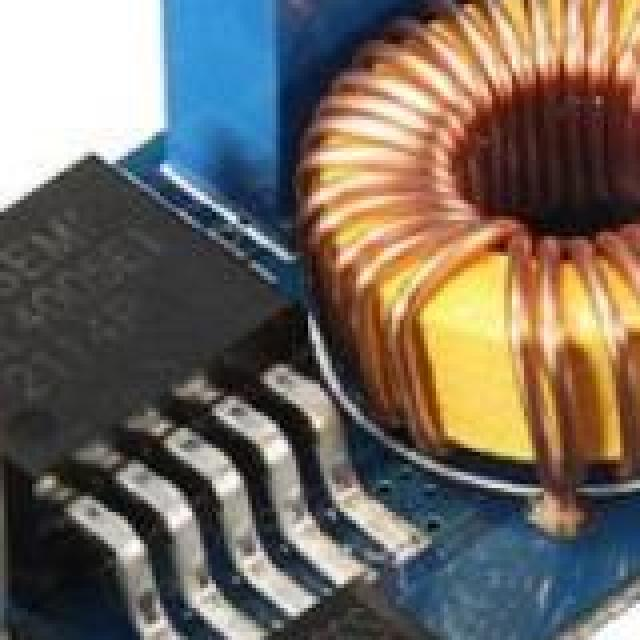IC: (0, 120, 356, 632)
capacitor: (0, 316, 32, 640)
diode: (238, 543, 472, 640)
inductor: (250, 0, 640, 567)
potentiometer: (196, 0, 463, 131)
